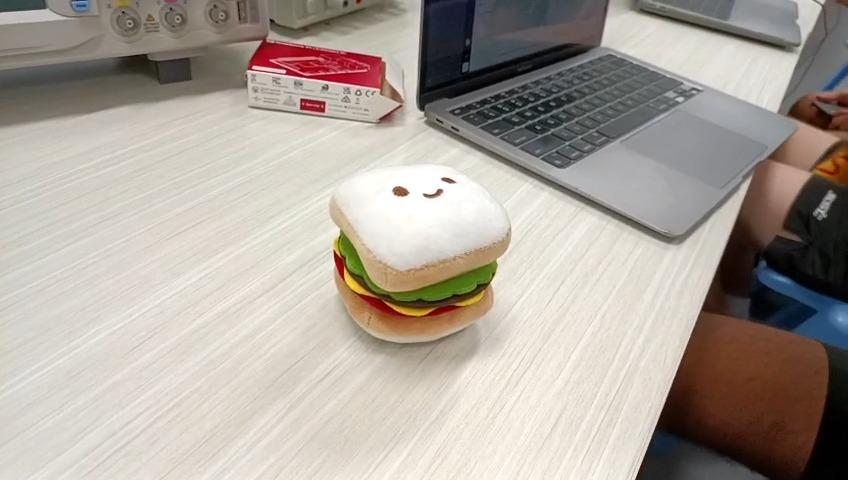objects: (326, 162, 515, 347)
